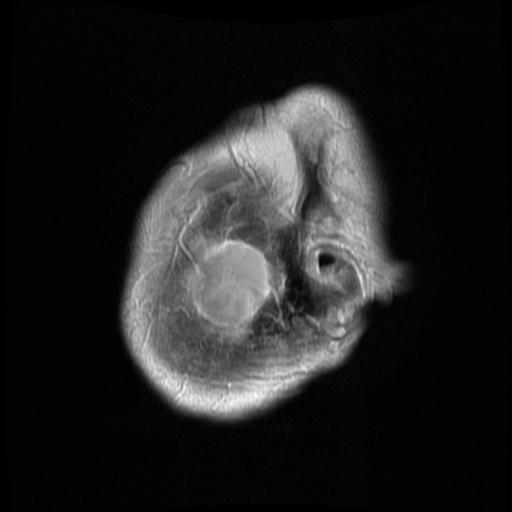meningioma: (185, 239, 273, 334)
